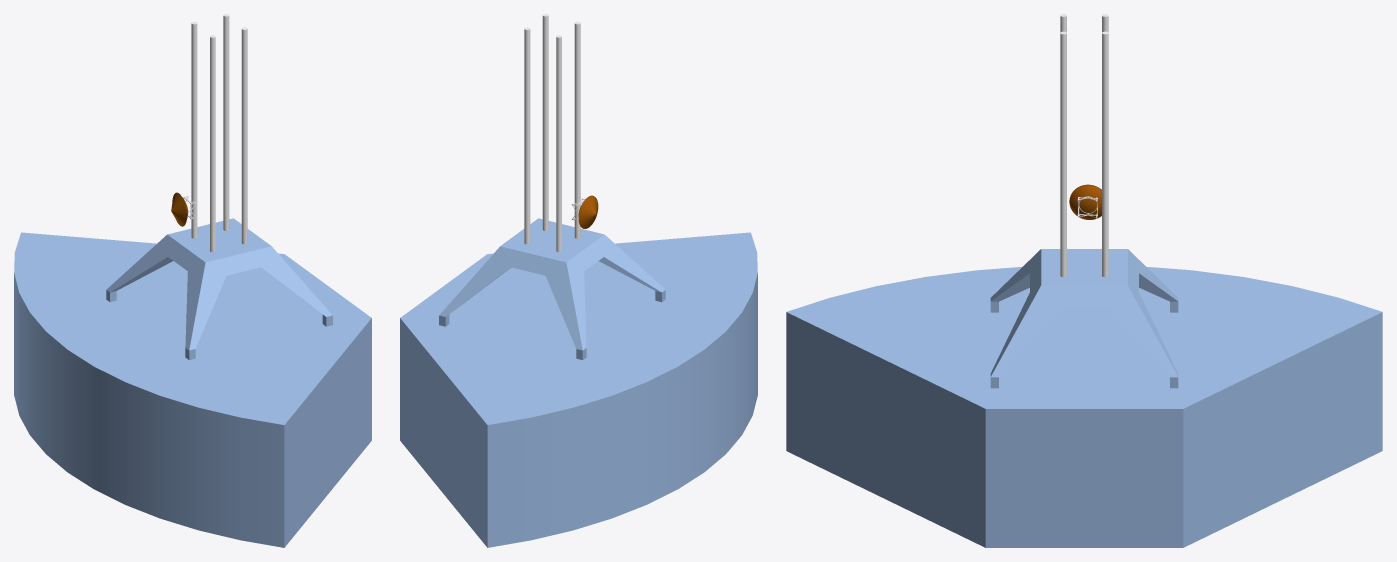
File: 辺野喜.glb
The picture shows the model from 3 angles, left to right: view 1: azimuth 30°, elevation 25°; view 2: azimuth 150°, elevation 25°; view 3: azimuth 270°, elevation 25°; orthographic projection. The views are drawn at different scales.
Parts seen in each view (by area): view 1: group_0.012, group_52, group_48, group_49, group_50, group_51; view 2: group_0.012, group_52, group_49, group_48, group_51, group_50, group_81; view 3: group_0.012, group_52, group_48, group_49, group_81.
Part boxes in pixels (bbox=[...]): group_0.012: bbox=[14, 232, 371, 547]; group_52: bbox=[106, 218, 332, 360]; group_48: bbox=[241, 27, 247, 244]; group_49: bbox=[223, 14, 229, 230]; group_50: bbox=[191, 21, 197, 238]; group_51: bbox=[210, 35, 215, 252]; group_0.012: bbox=[400, 232, 757, 547]; group_52: bbox=[439, 218, 665, 360]; group_49: bbox=[524, 27, 530, 244]; group_48: bbox=[542, 14, 548, 230]; group_51: bbox=[574, 21, 580, 238]; group_50: bbox=[556, 35, 561, 252]; group_81: bbox=[578, 196, 597, 228]; group_0.012: bbox=[786, 266, 1382, 547]; group_52: bbox=[990, 249, 1178, 388]; group_48: bbox=[1060, 31, 1066, 277]; group_49: bbox=[1102, 31, 1108, 277]; group_81: bbox=[1070, 185, 1101, 219].
Size of the model in its own units: 18 by 27.01 by 31.49.
